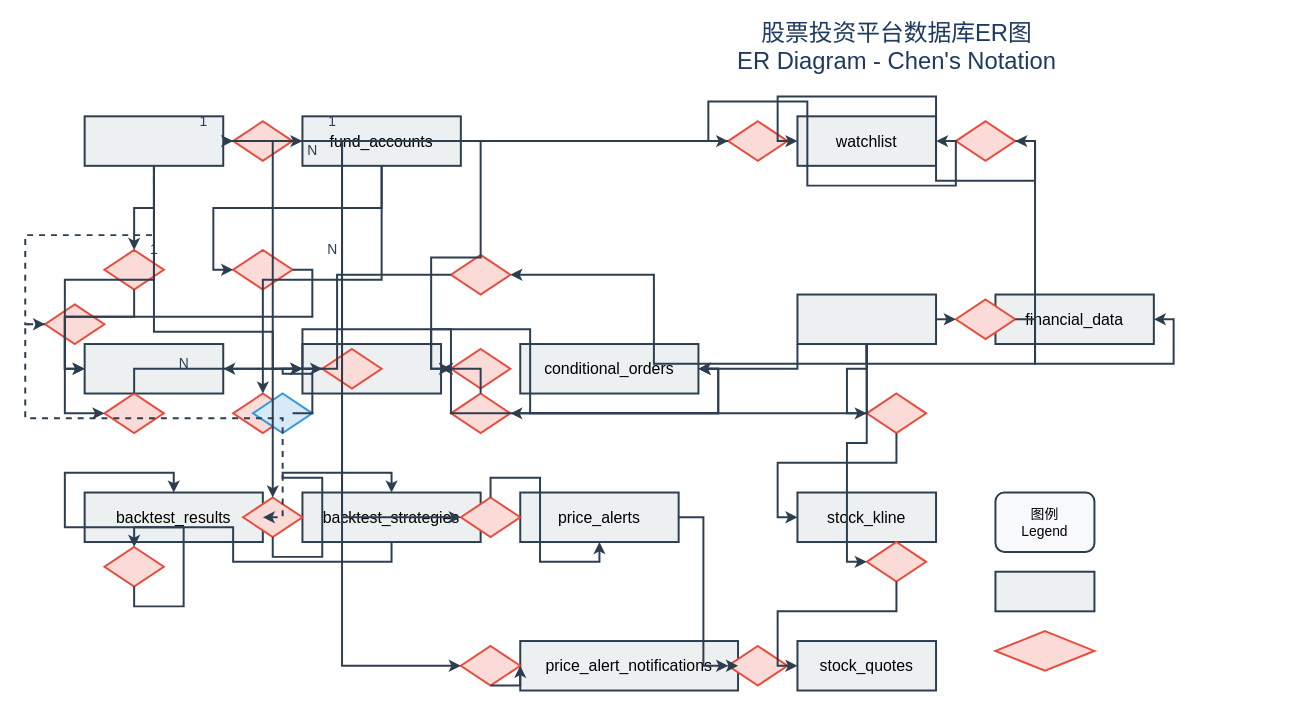
This 1309x711 diagram has some shape labels left out. The shapes that lost their labels are listed below. From the top down, each one's box as (x1, y1, x2, y2) in pixels, then its label:
(83, 115, 224, 166): users
(796, 293, 937, 345): stocks
(83, 343, 224, 394): orders
(301, 343, 442, 394): positions
(994, 570, 1095, 612): 实体 Entity
(994, 630, 1095, 671): 关系 Relationship
